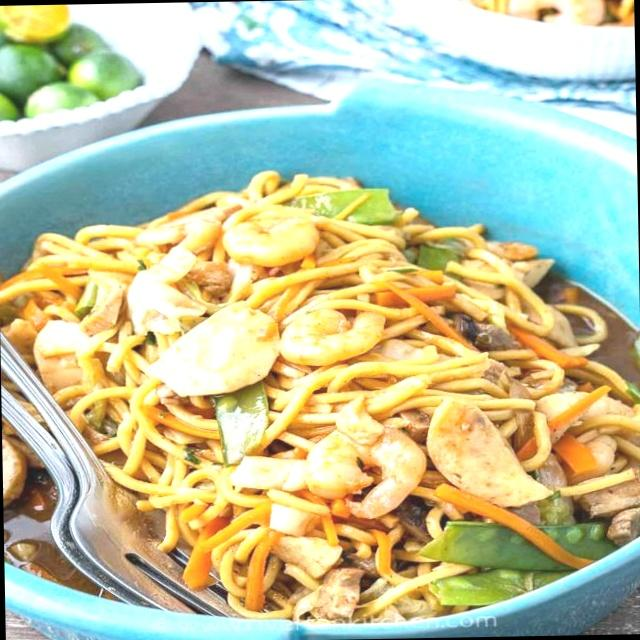pancit bihon: (0, 177, 639, 608)
